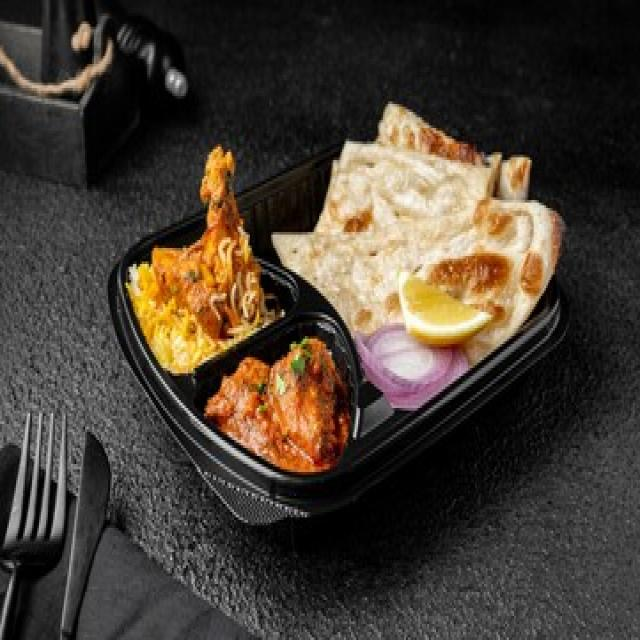BIRIYANI: (129, 151, 283, 368)
FISH CURRY: (205, 336, 351, 472)
PAROTTA: (272, 96, 568, 367)
